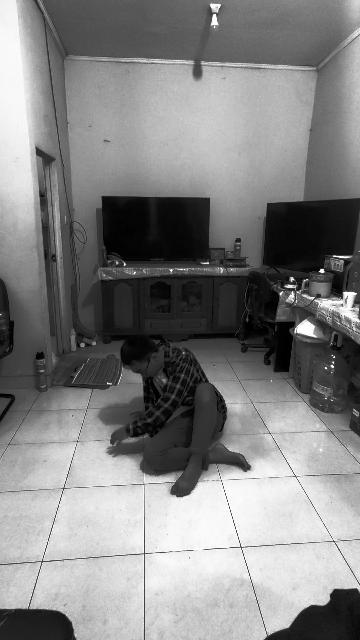jatuh: (103, 332, 256, 503)
